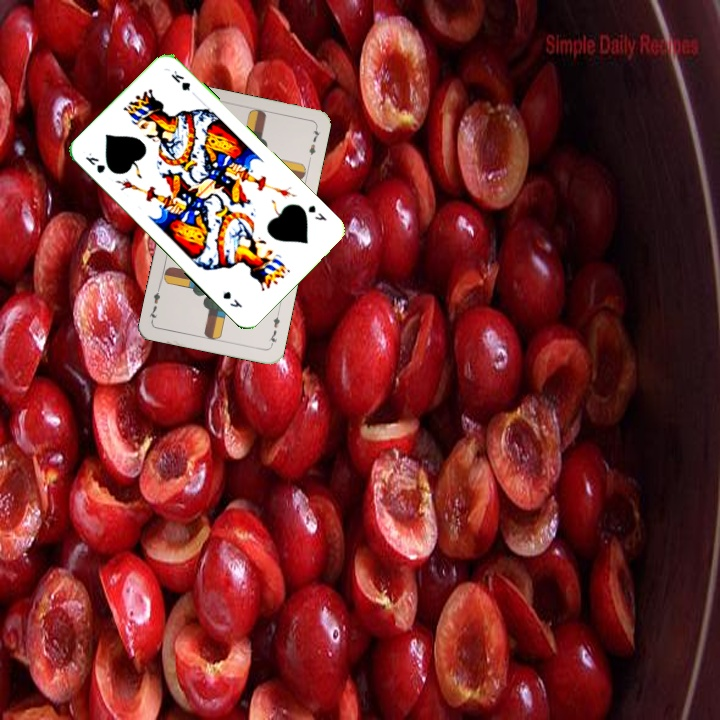E7: (265, 308, 283, 349)
GK: (81, 149, 108, 176), (304, 201, 330, 223)
